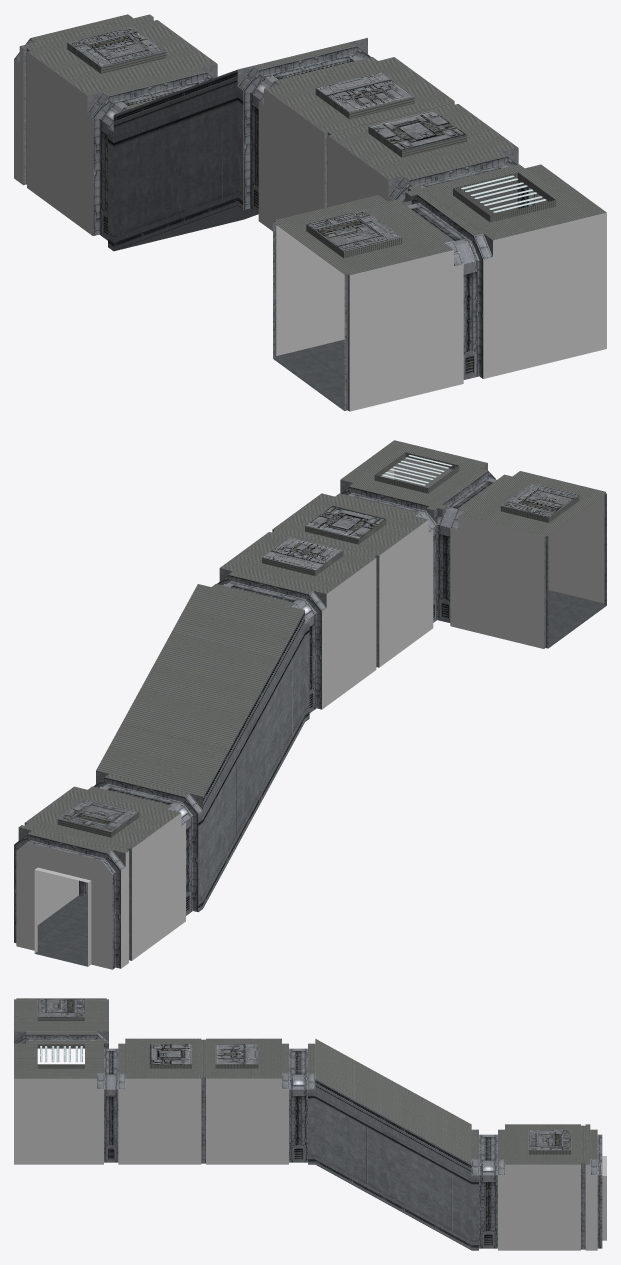
Rendered from poi_all_impl_bunker_warren_s01_r33_hall33_mesh_r33.fbx.
3 views of the same model, one above another, from view 1: azimuth 30°, elevation 25°; view 2: azimuth 150°, elevation 25°; view 3: azimuth 270°, elevation 25° (orthographic). The views are drawn at different scales.
Visible parts, largest first — view 1: mesh_node; view 2: mesh_node; view 3: mesh_node.
Boxes of the visible parts, left/top/right/bottom form: mesh_node: left=14, top=14, right=606, bottom=411; mesh_node: left=14, top=440, right=606, bottom=969; mesh_node: left=14, top=998, right=606, bottom=1250.
Size of the model in its own units: 8 by 8.2 by 25.
